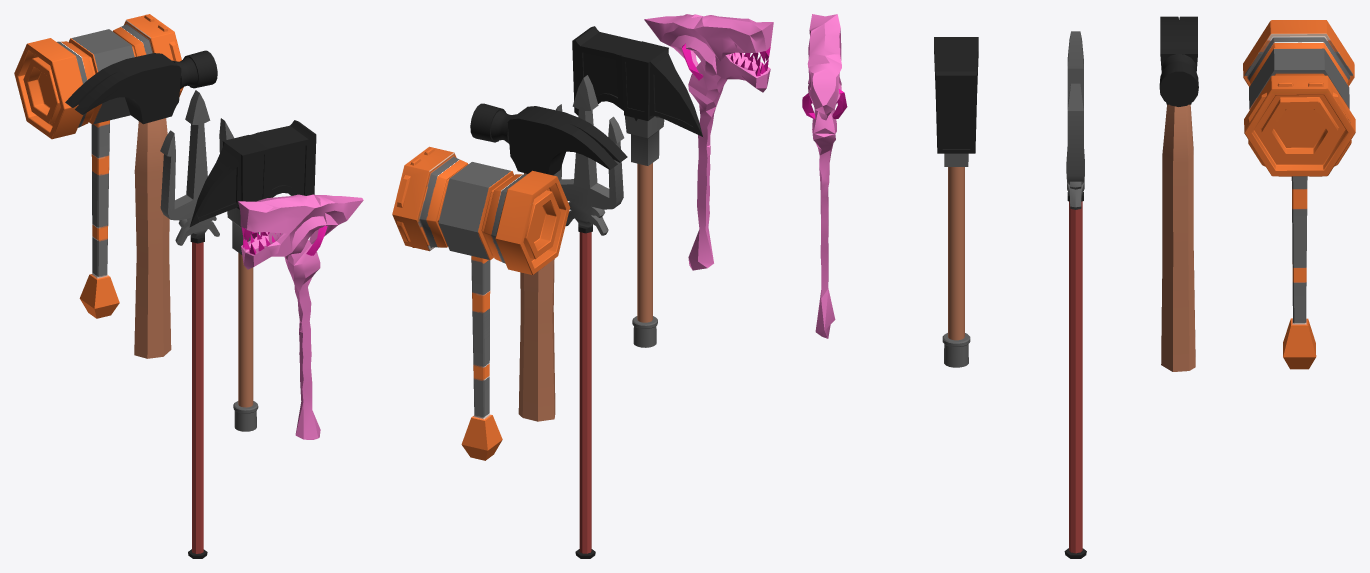
Rendered from hammer.fbx.
3 renders of one model, left to right at view 1: azimuth 30°, elevation 25°; view 2: azimuth 150°, elevation 25°; view 3: azimuth 270°, elevation 25°, orthographic. The views are drawn at different scales.
Parts seen in each view (by area): view 1: _gltfNode_0, Part1, object 4, HEAD_low.002__0, Mesh; view 2: _gltfNode_0, object 4, Part1, HEAD_low.002__0, Mesh; view 3: _gltfNode_0, Part1, object 4, Mesh, HEAD_low.002__0.
Boxes of the visible parts, x1=… form: _gltfNode_0: x1=14, y1=14, x2=183, y2=318; Part1: x1=65, y1=50, x2=217, y2=358; object 4: x1=189, y1=120, x2=316, y2=431; HEAD_low.002__0: x1=238, y1=194, x2=363, y2=439; Mesh: x1=160, y1=90, x2=234, y2=558; _gltfNode_0: x1=392, y1=146, x2=570, y2=460; object 4: x1=572, y1=26, x2=702, y2=347; Part1: x1=470, y1=103, x2=627, y2=421; HEAD_low.002__0: x1=644, y1=14, x2=773, y2=270; Mesh: x1=553, y1=75, x2=624, y2=558; _gltfNode_0: x1=1243, y1=20, x2=1355, y2=369; Part1: x1=1159, y1=16, x2=1198, y2=371; object 4: x1=934, y1=37, x2=978, y2=367; Mesh: x1=1064, y1=31, x2=1086, y2=558; HEAD_low.002__0: x1=802, y1=14, x2=847, y2=338.
Size of the model in its own units: 0.2281 by 0.7087 by 0.6785.
